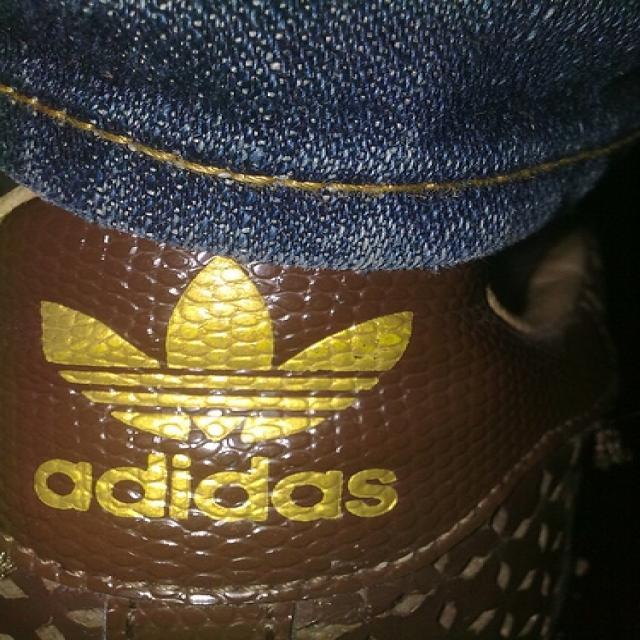adidas: (22, 244, 435, 534)
